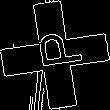P_W: (27, 33, 83, 77)
